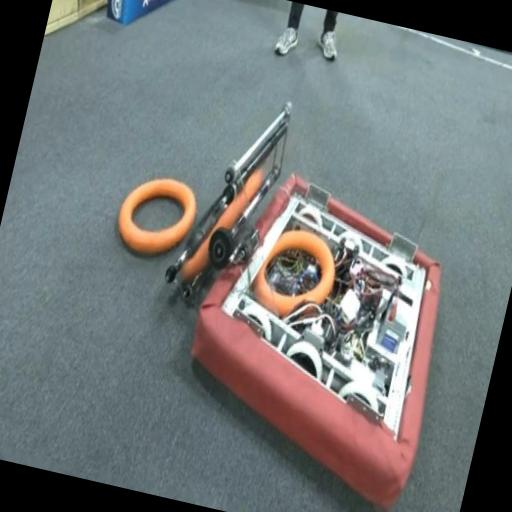robot: (121, 79, 499, 512)
